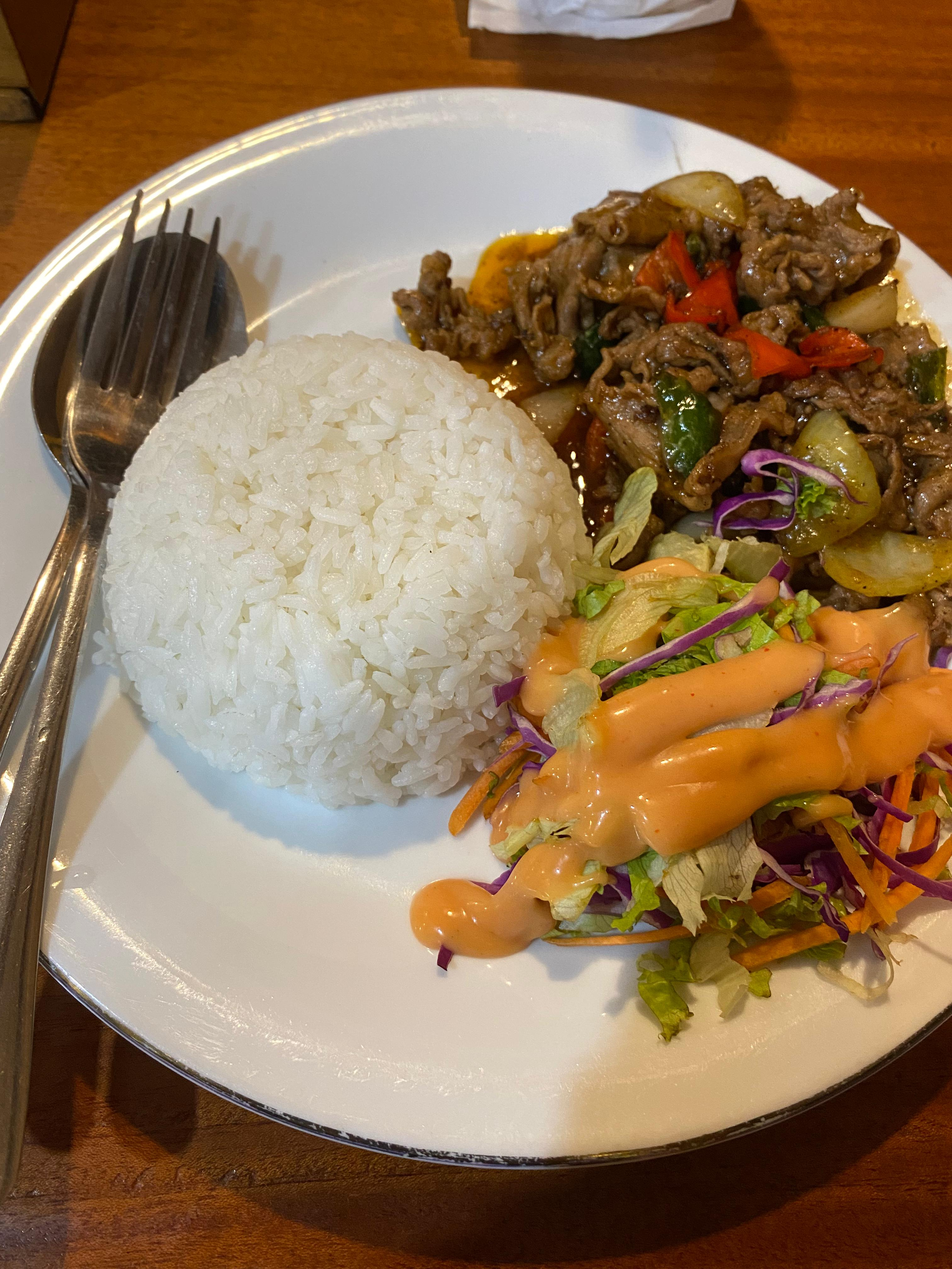buah_sayur_lainnya: (554, 615, 900, 1010)
daging: (507, 205, 924, 521)
makanan_berpati: (150, 368, 518, 806)
